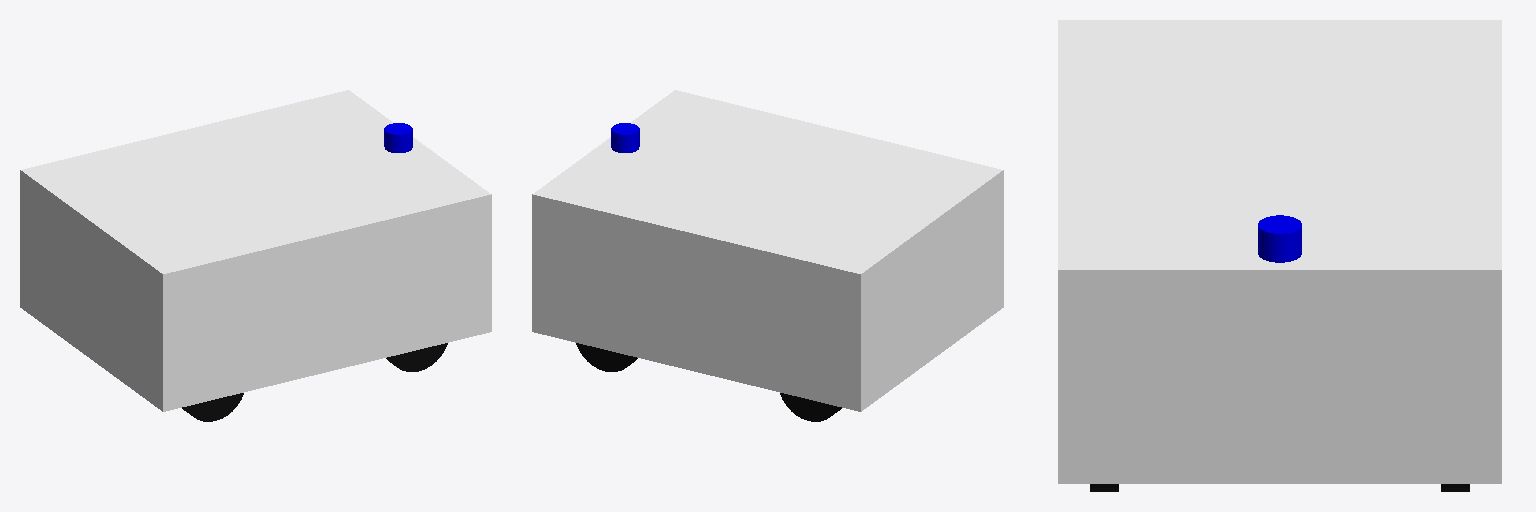
robot.urdf — traktor_custom_size:
<?xml version="1.0"?>
<robot xmlns:xacro="http://www.ros.org/wiki/xacro" name="traktor_custom_size">

  <!-- ======================================================================== -->
  <!-- 1. 车身 (Base Link) -->
  <!-- 尺寸: 长0.806, 宽0.607, 高0.323 -->
  <!-- ======================================================================== -->
  <link name="base_link">
    <visual>
      <!-- 视觉中心稍微抬高一点，让轮子刚好在底部 -->
      <origin xyz="0 0 0" rpy="0 0 0"/>
      <geometry>
        <box size="0.806 0.607 0.323"/>
      </geometry>
      <material name="white_paint">
        <color rgba="1.0 1.0 1.0 1.0"/>
      </material>
    </visual>
    <collision>
      <origin xyz="0 0 0" rpy="0 0 0"/>
      <geometry>
        <box size="0.806 0.607 0.323"/>
      </geometry>
    </collision>
    <inertial>
      <origin xyz="0 0 0" rpy="0 0 0"/>
      <mass value="30"/>
      <!-- 简单的长方体惯性矩阵估算 -->
      <inertia ixx="1.18" ixy="0" ixz="0" iyy="1.88" iyz="0" izz="2.54"/>
    </inertial>
  </link>

  <!-- ======================================================================== -->
  <!-- 2. 前轮转向机构 (Steering Links) - 也就是"转向节" -->
  <!-- 为了美观，把这些关节做得很小，隐藏在车身下面 -->
  <!-- ======================================================================== -->

  <!-- 左前转向节 -->
  <link name="left_steering_link">
    <inertial><mass value="0.5"/><origin xyz="0 0 0"/><inertia ixx="0.01" ixy="0" ixz="0" iyy="0.01" iyz="0" izz="0.01"/></inertial>
    <visual>
      <geometry><cylinder radius="0.02" length="0.05"/></geometry>
      <material name="black"/>
    </visual>
  </link>

  <joint name="left_steering_joint" type="revolute">
    <parent link="base_link"/>
    <child link="left_steering_link"/>
    <!-- 位置计算: X轴靠前0.25m, Y轴靠左0.24m (确保轮子在0.3035以内), Z轴在车底 -->
    <!-- 车高0.323，半高0.1615。轮子半径0.076。让轮子着地，轴心应该在 -0.1615 + 0.076 附近 -->
    <!-- 这里稍微调整让车身离地有点间隙 -->
    <origin xyz="0.25 0.24 -0.16" rpy="0 0 0"/>
    <axis xyz="0 0 1"/> <!-- 绕Z轴旋转进行转向 -->
    <limit lower="-0.6" upper="0.6" effort="100" velocity="10"/>
  </joint>

  <!-- 右前转向节 -->
  <link name="right_steering_link">
    <inertial><mass value="0.5"/><origin xyz="0 0 0"/><inertia ixx="0.01" ixy="0" ixz="0" iyy="0.01" iyz="0" izz="0.01"/></inertial>
    <visual>
      <geometry><cylinder radius="0.02" length="0.05"/></geometry>
      <material name="black"/>
    </visual>
  </link>

  <joint name="right_steering_joint" type="revolute">
    <parent link="base_link"/>
    <child link="right_steering_link"/>
    <origin xyz="0.25 -0.24 -0.16" rpy="0 0 0"/>
    <axis xyz="0 0 1"/>
    <limit lower="-0.6" upper="0.6" effort="100" velocity="10"/>
  </joint>

  <!-- ======================================================================== -->
  <!-- 3. 轮子 (Wheels) -->
  <!-- 半径 76mm (0.076m), 宽度设为 40mm (0.04m) -->
  <!-- ======================================================================== -->

  <!-- 左前轮 -->
  <link name="left_front_wheel">
    <inertial><mass value="2"/><origin xyz="0 0 0"/><inertia ixx="0.003" ixy="0" ixz="0" iyy="0.003" iyz="0" izz="0.005"/></inertial>
    <visual>
      <geometry><cylinder radius="0.076" length="0.04"/></geometry>
      <material name="black"><color rgba="0.1 0.1 0.1 1"/></material>
    </visual>
    <collision>
      <geometry><cylinder radius="0.076" length="0.04"/></geometry>
    </collision>
  </link>

  <joint name="left_front_wheel_joint" type="continuous">
    <parent link="left_steering_link"/>
    <child link="left_front_wheel"/>
    <origin xyz="0 0 0" rpy="-1.5707 0 0"/> <!-- 翻转90度让圆柱横过来 -->
    <axis xyz="0 0 1"/> <!-- 这里的轴是相对于翻转后的圆柱 -->
  </joint>

  <!-- 右前轮 -->
  <link name="right_front_wheel">
    <inertial><mass value="2"/><origin xyz="0 0 0"/><inertia ixx="0.003" ixy="0" ixz="0" iyy="0.003" iyz="0" izz="0.005"/></inertial>
    <visual>
      <geometry><cylinder radius="0.076" length="0.04"/></geometry>
      <material name="black"/>
    </visual>
    <collision>
      <geometry><cylinder radius="0.076" length="0.04"/></geometry>
    </collision>
  </link>

  <joint name="right_front_wheel_joint" type="continuous">
    <parent link="right_steering_link"/>
    <child link="right_front_wheel"/>
    <origin xyz="0 0 0" rpy="-1.5707 0 0"/>
    <axis xyz="0 0 1"/>
  </joint>

  <!-- 左后轮 (没有转向节，直接连车身) -->
  <link name="left_rear_wheel">
    <inertial><mass value="2"/><origin xyz="0 0 0"/><inertia ixx="0.003" ixy="0" ixz="0" iyy="0.003" iyz="0" izz="0.005"/></inertial>
    <visual>
      <geometry><cylinder radius="0.076" length="0.04"/></geometry>
      <material name="black"/>
    </visual>
    <collision>
      <geometry><cylinder radius="0.076" length="0.04"/></geometry>
    </collision>
  </link>

  <joint name="left_rear_wheel_joint" type="continuous">
    <parent link="base_link"/>
    <child link="left_rear_wheel"/>
    <origin xyz="-0.25 0.24 -0.16" rpy="-1.5707 0 0"/>
    <axis xyz="0 0 1"/>
  </joint>

  <!-- 右后轮 -->
  <link name="right_rear_wheel">
    <inertial><mass value="2"/><origin xyz="0 0 0"/><inertia ixx="0.003" ixy="0" ixz="0" iyy="0.003" iyz="0" izz="0.005"/></inertial>
    <visual>
      <geometry><cylinder radius="0.076" length="0.04"/></geometry>
      <material name="black"/>
    </visual>
    <collision>
      <geometry><cylinder radius="0.076" length="0.04"/></geometry>
    </collision>
  </link>

  <joint name="right_rear_wheel_joint" type="continuous">
    <parent link="base_link"/>
    <child link="right_rear_wheel"/>
    <origin xyz="-0.25 -0.24 -0.16" rpy="-1.5707 0 0"/>
    <axis xyz="0 0 1"/>
  </joint>


  <!-- ======================================================================== -->
  <!-- 4. 传感器 (Lidar & GPS) -->
  <!-- ======================================================================== -->
  
  <link name="hokuyo_link">
    <visual>
      <geometry><cylinder radius="0.03" length="0.05"/></geometry>
      <material name="blue"><color rgba="0 0 1 1"/></material>
    </visual>
  </link>
  <joint name="hokuyo_joint" type="fixed">
    <parent link="base_link"/>
    <child link="hokuyo_link"/>
    <!-- 放在车头顶部: X靠前, Z在车顶(0.323/2 = 0.1615) + 雷达高度一半 -->
    <origin xyz="0.35 0 0.18" rpy="0 0 0"/>
  </joint>

  <!-- Gazebo 插件: 激光雷达 -->
  <gazebo reference="hokuyo_link">
    <sensor name="lidar" type="ray">
      <always_on>true</always_on>
      <visualize>true</visualize>
      <update_rate>10</update_rate>
      <ray>
        <scan>
          <horizontal>
            <samples>360</samples>
            <resolution>1</resolution>
            <min_angle>-3.14</min_angle>
            <max_angle>3.14</max_angle>
          </horizontal>
        </scan>
        <range>
          <min>0.12</min>
          <max>10.0</max>
        </range>
      </ray>
      <plugin name="scan" filename="libgazebo_ros_ray_sensor.so">
        <ros><remapping>~/out:=scan</remapping></ros>
        <output_type>sensor_msgs/LaserScan</output_type>
        <frame_name>hokuyo_link</frame_name>
      </plugin>
    </sensor>
    <material>Gazebo/Blue</material>
  </gazebo>


  <!-- ======================================================================== -->
  <!-- 5. 阿克曼驱动插件 -->
  <!-- ======================================================================== -->
  <gazebo>
    <plugin name="gazebo_ros_ackermann_drive" filename="libgazebo_ros_ackermann_drive.so">
      <ros>
        <remapping>cmd_vel:=cmd_vel</remapping>
        <remapping>odom:=odom</remapping>
      </ros>

      <update_rate>100.0</update_rate>

      <!-- 关节定义 -->
      <front_left_joint>left_front_wheel_joint</front_left_joint>
      <front_right_joint>right_front_wheel_joint</front_right_joint>
      <rear_left_joint>left_rear_wheel_joint</rear_left_joint>
      <rear_right_joint>right_rear_wheel_joint</rear_right_joint>
      <left_steering_joint>left_steering_joint</left_steering_joint>
      <right_steering_joint>right_steering_joint</right_steering_joint>

      <!-- 阿克曼几何参数 -->
      <max_steer>0.6</max_steer>
      <max_steering_angle>7.85</max_steering_angle>
      <max_speed>20</max_speed>

      <!-- PID 控制参数 -->
      <left_steering_pid_gain>1000 0 1</left_steering_pid_gain>
      <right_steering_pid_gain>1000 0 1</right_steering_pid_gain>
      <linear_velocity_pid_gain>500 0 1</linear_velocity_pid_gain>

      <!-- 发布里程计 -->
      <publish_odom>true</publish_odom>
      <publish_odom_tf>true</publish_odom_tf>
      <publish_wheel_tf>true</publish_wheel_tf>
      <publish_distance>true</publish_distance>

      <odometry_frame>odom</odometry_frame>
      <robot_base_frame>base_link</robot_base_frame>
    </plugin>
  </gazebo>

  <!-- Gazebo 颜色美化 -->
  <gazebo reference="base_link">
    <material>Gazebo/White</material>
  </gazebo>
  <gazebo reference="left_front_wheel">
    <material>Gazebo/FlatBlack</material>
  </gazebo>
  <gazebo reference="right_front_wheel">
    <material>Gazebo/FlatBlack</material>
  </gazebo>
  <gazebo reference="left_rear_wheel">
    <material>Gazebo/FlatBlack</material>
  </gazebo>
  <gazebo reference="right_rear_wheel">
    <material>Gazebo/FlatBlack</material>
  </gazebo>

</robot>

--- Facts derived from the render (not from the file) ---
The picture shows the robot from 3 angles, left to right: view 1: azimuth 30°, elevation 25°; view 2: azimuth 150°, elevation 25°; view 3: azimuth 270°, elevation 25°; orthographic projection.
Robot: traktor_custom_size — 8 links, 7 joints (2 revolute, 4 continuous, 1 fixed); root link base_link; default pose: every joint at zero.
Links seen in each view (by area): view 1: base_link, right_front_wheel, right_rear_wheel, hokuyo_link; view 2: base_link, left_front_wheel, left_rear_wheel, hokuyo_link; view 3: base_link, hokuyo_link.
Link boxes in pixels (x1=…): base_link: x1=20, y1=90, x2=491, y2=411; right_front_wheel: x1=386, y1=343, x2=447, y2=371; right_rear_wheel: x1=182, y1=393, x2=243, y2=421; hokuyo_link: x1=384, y1=123, x2=412, y2=152; base_link: x1=532, y1=90, x2=1003, y2=411; left_front_wheel: x1=576, y1=343, x2=637, y2=371; left_rear_wheel: x1=780, y1=393, x2=841, y2=421; hokuyo_link: x1=611, y1=123, x2=639, y2=152; base_link: x1=1058, y1=20, x2=1501, y2=483; hokuyo_link: x1=1258, y1=215, x2=1301, y2=262.
Size in the robot's own frame: 0.806 by 0.607 by 0.441 metres.
Geometry: primitives only (box / cylinder / sphere), no mesh files.
